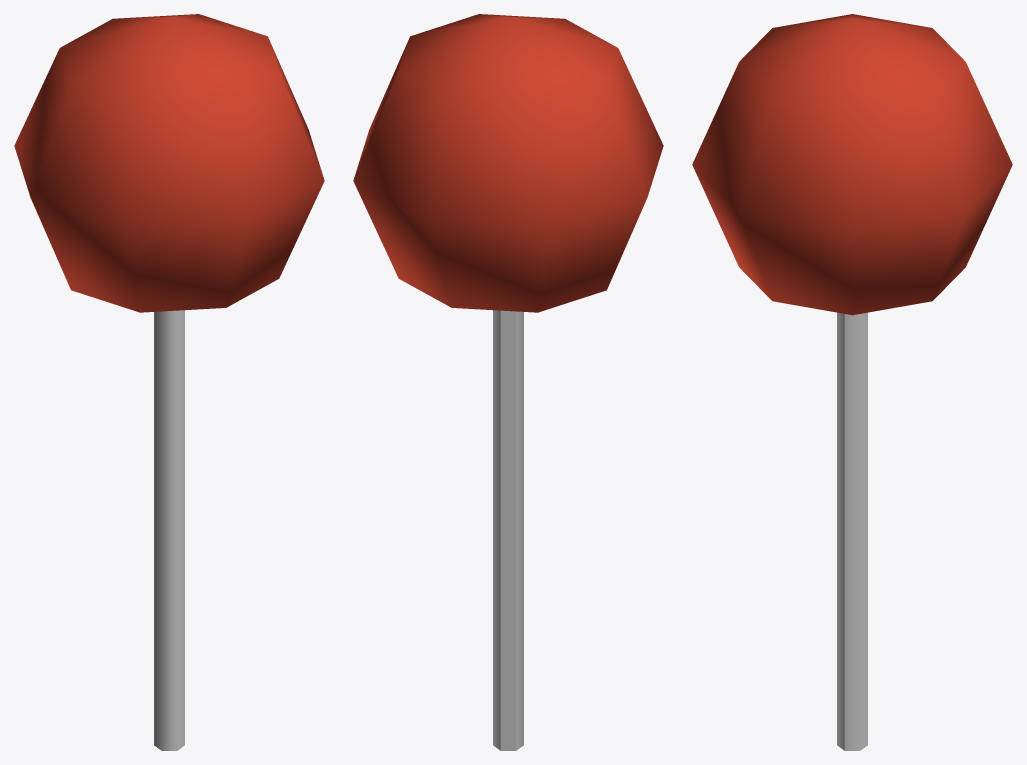
File: Lollipop_01.fbx
3 renders of one model, left to right at view 1: azimuth 30°, elevation 25°; view 2: azimuth 150°, elevation 25°; view 3: azimuth 270°, elevation 25°, orthographic.
Parts seen in each view (by area): view 1: Lollipop_01; view 2: Lollipop_01; view 3: Lollipop_01.
Part boxes in pixels (x1,y1,x2,y2): Lollipop_01: (14,14,324,750); Lollipop_01: (353,14,663,750); Lollipop_01: (692,14,1012,750).
Bounding box in the file's own units: 0.0603 × 0.1507 × 0.0603.
